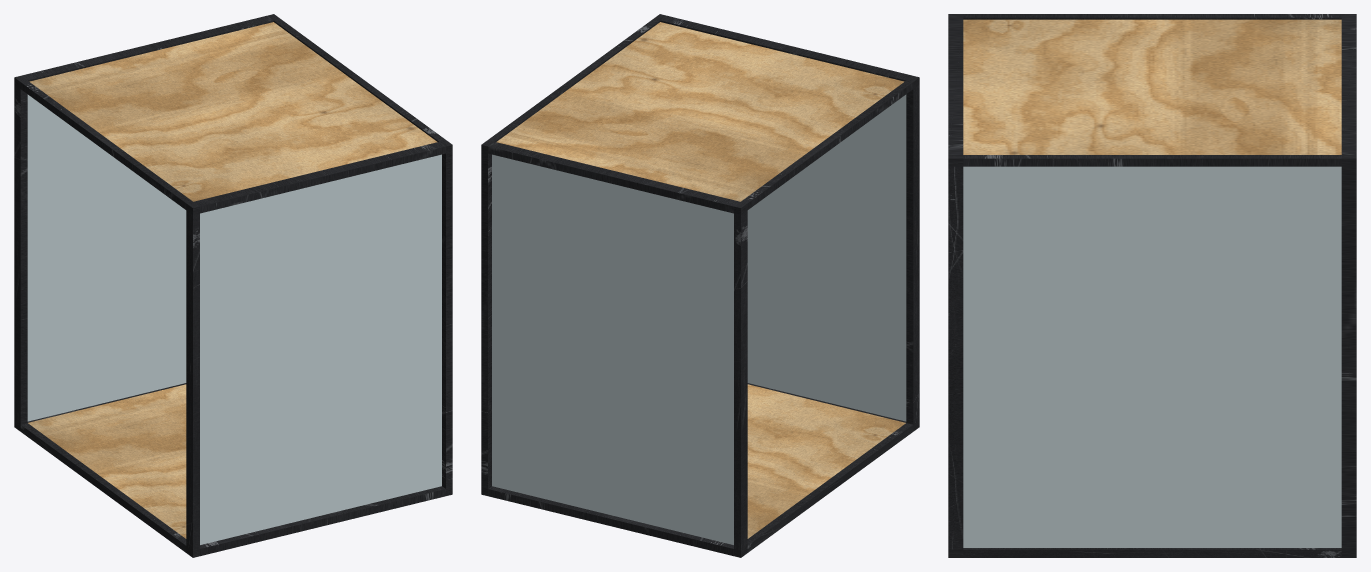
The model's file is SM_Area de Trabalho 1.fbx.
3 renders of one model, left to right at view 1: azimuth 30°, elevation 25°; view 2: azimuth 150°, elevation 25°; view 3: azimuth 270°, elevation 25°, orthographic. The views are drawn at different scales.
Parts seen in each view (by area): view 1: SM_Area de Trabalho 1; view 2: SM_Area de Trabalho 1; view 3: SM_Area de Trabalho 1.
Part boxes in pixels (x1=…): SM_Area de Trabalho 1: x1=14, y1=14, x2=452, y2=557; SM_Area de Trabalho 1: x1=481, y1=14, x2=919, y2=557; SM_Area de Trabalho 1: x1=948, y1=14, x2=1356, y2=557.
Size of the model in its own units: 155 by 200 by 185.
